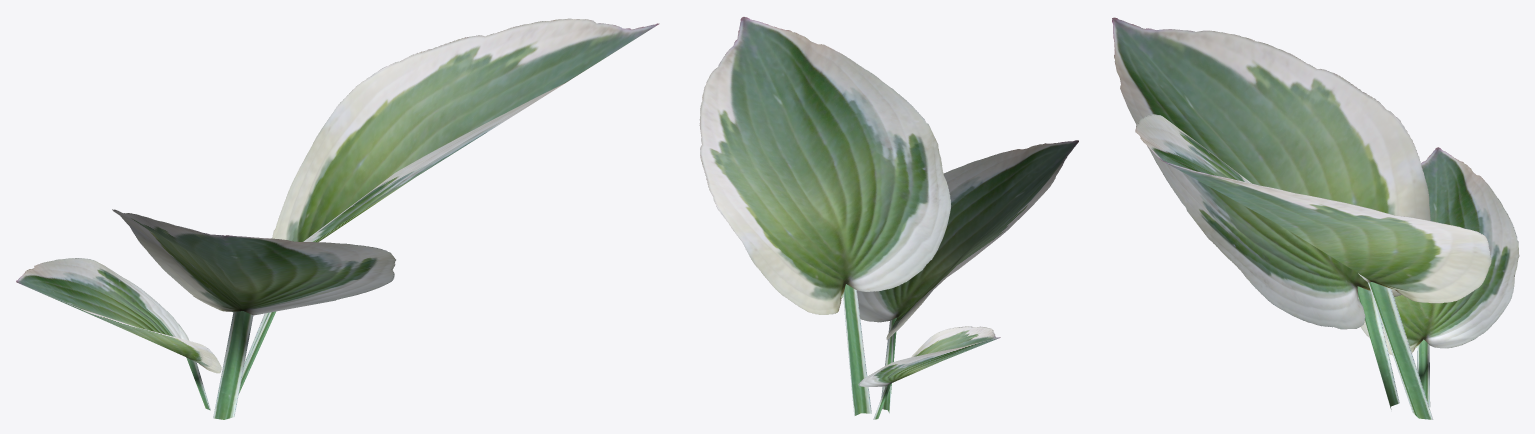
Rendered from plant_small_wg_04F.fbx.
3 views of the same model, side by side, from view 1: azimuth 30°, elevation 25°; view 2: azimuth 150°, elevation 25°; view 3: azimuth 270°, elevation 25° (orthographic). The views are drawn at different scales.
Parts seen in each view (by area): view 1: plant_small_wg_04F; view 2: plant_small_wg_04F; view 3: plant_small_wg_04F.
Boxes of the visible parts, <box> form: plant_small_wg_04F: <box>16,18,659,419</box>; plant_small_wg_04F: <box>699,17,1078,419</box>; plant_small_wg_04F: <box>1112,17,1519,419</box>.
Size of the model in its own units: 78.12 by 58.74 by 53.56.
